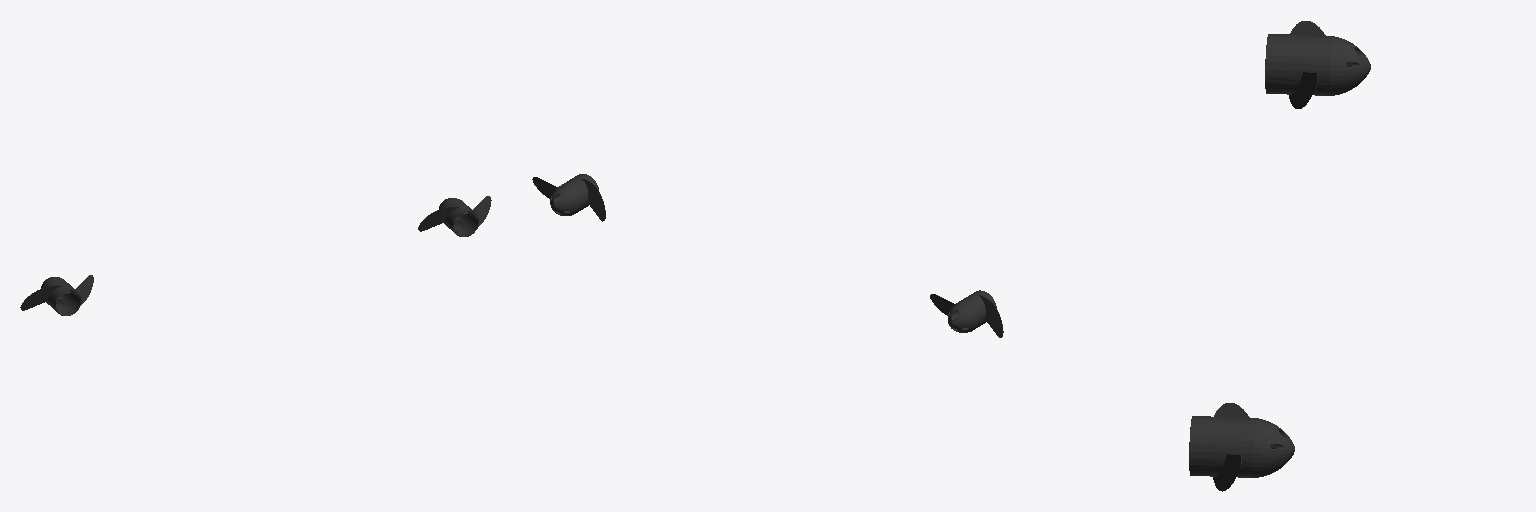
The robot description file, URDF, robot "blueboat_urdf":
<?xml version="1.0"?>
<!-- This URDF was automatically created by SolidWorks to URDF Exporter! Originally created by Stephen Brawner ([email redacted]) 
     Commit Version: 1.6.0-4-g7f85cfe  Build Version: 1.6.7995.38578
     For more information, please see http://wiki.ros.org/sw_urdf_exporter -->
<robot
  name="blueboat_urdf">
  
  <link name="base_link">
    <inertial>
      <origin
        xyz="0.385513736392934 0.0490743542863906 -0.613621250724049"
        rpy="0 0 0" />
      <mass
        value="28.784" />
      <inertia
        ixx="3.34"
        ixy="0.09"
        ixz="-0.25"
        iyy="3.42"
        iyz="0.05"
        izz="3.68" />
    </inertial>
    <visual>
      <origin
        xyz="0 0 0"
        rpy="0 0 0" />
      <geometry>
        <mesh filename="package://my_wamv/meshes/base_link.stl"/>
      </geometry>
      <material
        name="red">
        <color
          rgba="0.8 0.1 0.1 1" />
      </material>
    </visual>
    <collision>
      <origin
        xyz="0 0 0"
        rpy="0 0 0" />
      <geometry>
        <mesh
          filename="package://my_wamv/meshes/base_link.stl"/>
      </geometry>
    </collision>
   </link>
   <link
    name="left_link">
    <inertial>
      <origin
        xyz="0.0310805605236868 -0.00261283718392713 -1.96268754248941E-07"
        rpy="0 0 0" />
      <mass
        value="0.0185850494502652" />
      <inertia
        ixx="0.00000720"
        ixy="-0.00000013"
        ixz="0.00000003"
        iyy="0.00000566"
        iyz="0"
        izz="0.00000816" />
    </inertial>
    <visual>
      <origin
        xyz="0 0 0"
        rpy="0 0 0" />
      <geometry>
        <mesh
          filename="package://my_wamv/meshes/left_link.stl" />
      </geometry>
      <material
        name="grey">
        <color
          rgba="0.250980392156863 0.250980392156863 0.250980392156863 1" />
      </material>
    </visual>
    <collision>
      <origin
        xyz="0 0 0"
        rpy="0 0 0" />
      <geometry>
        <mesh
          filename="package://my_wamv/meshes/left_link.stl" />
      </geometry>
    </collision>
  </link>
  
  <joint name="left_joint" type="continuous"> 
    <origin xyz="0.75097 1.1523 -0.272" rpy="0 0 -1.5708"/>
    <parent link="base_link"/>
    <child link="left_link"/>
    <axis xyz="0.99648 0.083772 0"/> 
    <limit effort="43.18" velocity="100"/> 
    <dynamics damping="0.1"/> 
  </joint>
  
  <link
    name="right_link">
    <inertial>
      <origin
        xyz="0.031080555088574 -0.00261291005419406 1.85383385586935E-07"
        rpy="0 0 0" />
      <mass
        value="0.0185850515024319" />
      <inertia
        ixx="0.00000720"
        ixy="-0.00000013"
        ixz="0.00000003"
        iyy="0.00000566"
        iyz="0"
        izz="0.00000816" />
    </inertial>
    <visual>
      <origin
        xyz="0 0 0"
        rpy="0 0 0" />
      <geometry>
        <mesh
          filename="package://my_wamv/meshes/right_link.stl" />
      </geometry>
      <material
        name="grey">
        <color
          rgba="0.250980392156863 0.250980392156863 0.250980392156863 1" />
      </material>
    </visual>
    <collision>
      <origin
        xyz="0 0 0"
        rpy="0 0 0" />
      <geometry>
        <mesh
          filename="package://my_wamv/meshes/right_link.stl" />
      </geometry>
    </collision>
  </link>
  
  <joint name="right_joint" type="continuous"> 
    <origin xyz="0.15705 1.2022 -0.272" rpy="0 0 -1.5708"/>
    <parent link="base_link"/>
    <child link="right_link"/>
    <axis xyz="0.99648 0.083772 0"/>
    <limit effort="43.18" velocity="100"/> 
    <dynamics damping="0.1"/>
  </joint>
 
<gazebo>
    <plugin filename="gz-sim-thruster-system" name="gz::sim::systems::Thruster">
      <joint_name>left_joint</joint_name>
      <thrust_coefficient>0.004422</thrust_coefficient>
      <fluid_density>1000</fluid_density>
      <propeller_diameter>0.2</propeller_diameter>
      <velocity_control>true</velocity_control>
      <!-- max total thrust / 2 -->
      <max_thrust_cmd>2353.53383667818</max_thrust_cmd>
      <namespace>wamv</namespace>
      <topic>thrusters/left/thrust</topic>
      <!-- Not used by Gazebo but used to run the bridge easily -->
      <name>left</name>
    </plugin>

  <!-- Right Thruster -->
  <plugin filename="gz-sim-thruster-system" name="gz::sim::systems::Thruster">
      <joint_name>right_joint</joint_name>
      <thrust_coefficient>0.004422</thrust_coefficient>
      <fluid_density>1000</fluid_density>
      <propeller_diameter>0.2</propeller_diameter>
      <velocity_control>true</velocity_control>
      <!-- max total thrust / 2 -->
      <max_thrust_cmd>2353.53383667818</max_thrust_cmd>
      <namespace>wamv</namespace>
      <topic>thrusters/right/thrust</topic>
      <!-- Not used by Gazebo but used to run the bridge easily -->
      <name>right</name>
    </plugin>
</gazebo>


 <gazebo>
    <!-- Left hull -->
    <plugin filename="libSurface.so" name="vrx::Surface">
      <link_name>base_link</link_name>
      <hull_length>1.04</hull_length>
      <hull_radius>0.264</hull_radius>
      <fluid_level>0.1</fluid_level>
      <points>
        <point>0.6 1.03 0</point>
        <point>-1.4 1.03 0</point>
      </points>
      <wavefield>
        <topic>/vrx/wavefield/parameters</topic>
      </wavefield>
    </plugin>
    <!-- Right hull -->
    <plugin filename="libSurface.so" name="vrx::Surface">
      <link_name>base_link</link_name>
      <hull_length>1.04</hull_length>
      <hull_radius>0.264</hull_radius>
      <fluid_level>0.1</fluid_level>
      <points>
        <point>0.6 -1.03 0</point>
        <point>-1.4 -1.03 0</point>
      </points>
      <wavefield>
        <topic>/vrx/wavefield/parameters</topic>
      </wavefield>
    </plugin>
	<!-- Hydrodynamics -->
	<plugin
	  filename="gz-sim-hydrodynamics-system"
	  name="gz::sim::systems::Hydrodynamics">
	  <link_name>base_link</link_name>
	  <xDotU>0.0</xDotU>
	  <yDotV>0.0</yDotV>
	  <nDotR>0.0</nDotR>
	  <xU>-51.3</xU>
	  <xAbsU>-72.4</xAbsU>
	  <yV>-40.0</yV>
	  <yAbsV>0.0</yAbsV>
	  <zW>-500.0</zW>
	  <kP>-50.0</kP>
	  <mQ>-50.0</mQ>
	  <nR>-400.0</nR>
	  <nAbsR>0.0</nAbsR>
	</plugin>
 </gazebo>
</robot>

--- Render facts (derived) ---
The picture shows the robot from 3 angles, left to right: view 1: azimuth 30°, elevation 25°; view 2: azimuth 150°, elevation 25°; view 3: azimuth 270°, elevation 25°; orthographic projection.
Model blueboat_urdf with 3 links and 2 joints (2 continuous), rooted at base_link, posed all joints at 0.
Visible links, largest first — view 1: left_link, right_link; view 2: left_link, right_link; view 3: left_link, right_link.
Boxes of the visible links, x1=… form: left_link: x1=418, y1=196, x2=491, y2=236; right_link: x1=20, y1=275, x2=93, y2=315; left_link: x1=532, y1=174, x2=605, y2=221; right_link: x1=930, y1=290, x2=1003, y2=337; left_link: x1=1189, y1=403, x2=1294, y2=491; right_link: x1=1265, y1=21, x2=1370, y2=108.
Bounding box of the posed robot: 0.7034 × 0.1194 × 0.0427 m (x, y, z).
Meshes: 3 distinct files referenced, 2 mesh visuals loaded (2 binary STL); not drawn: 1 (reference not matched to a file when rendering).
